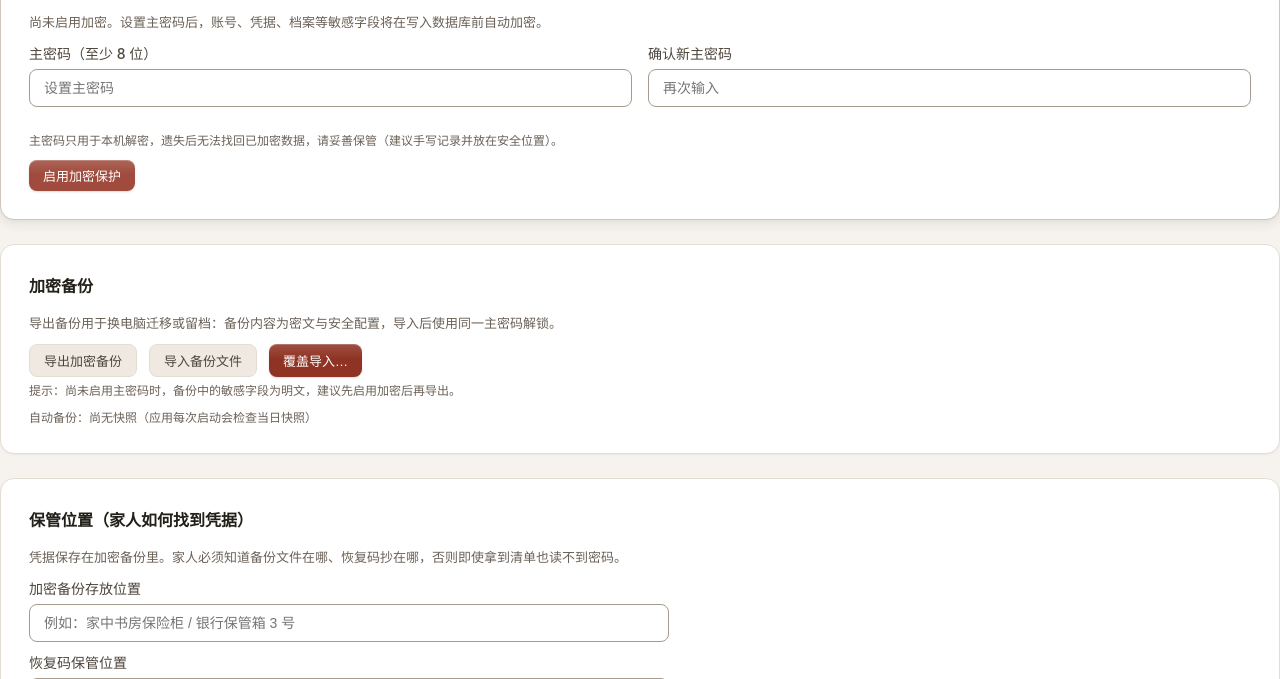
Test case: 备份导出 › 失败时明确报错，不得静默
(page scrolled)
Click the button "导出加密备份".
click(83, 360)  # box [29,344,137,377]
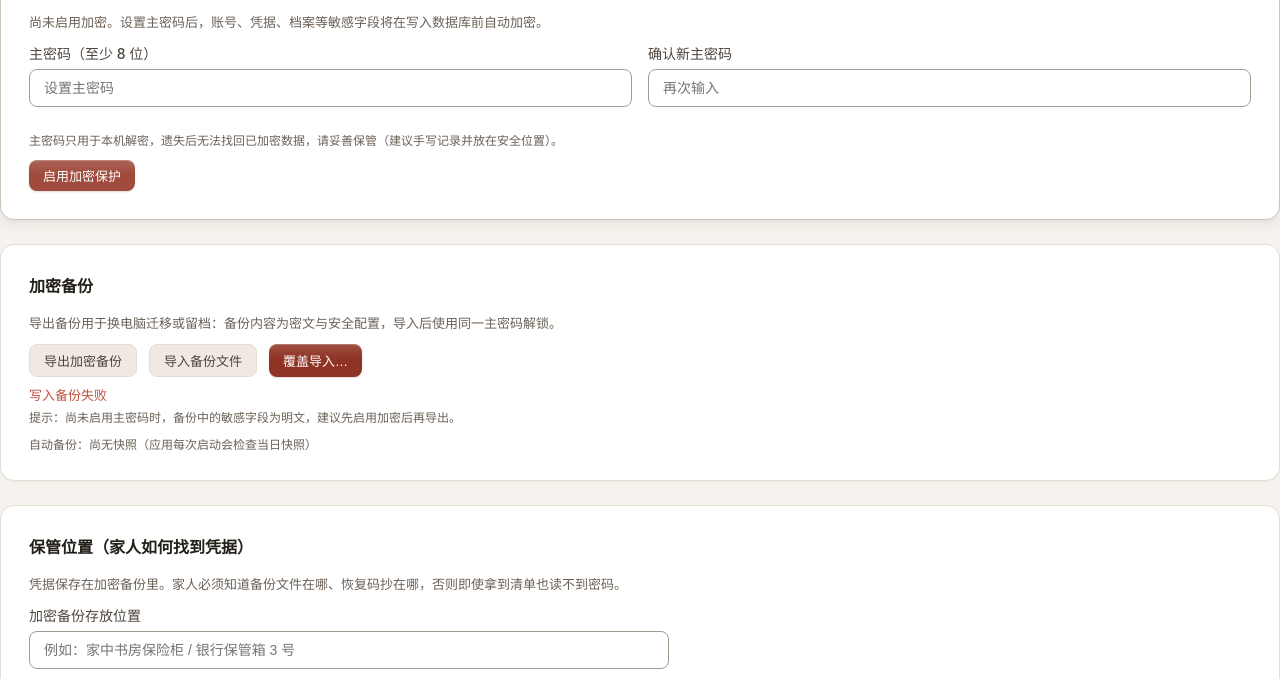
Expected: the text "写入备份失败" is shown, [29,387,107,403]
